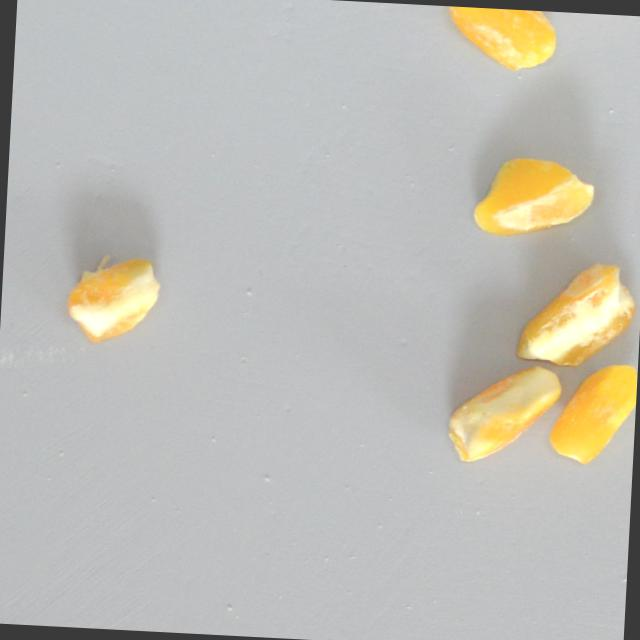estandar: (543, 359, 638, 468)
pelicula: (513, 256, 638, 370), (445, 358, 563, 467), (465, 151, 598, 240), (64, 250, 163, 347), (444, 6, 558, 73)
